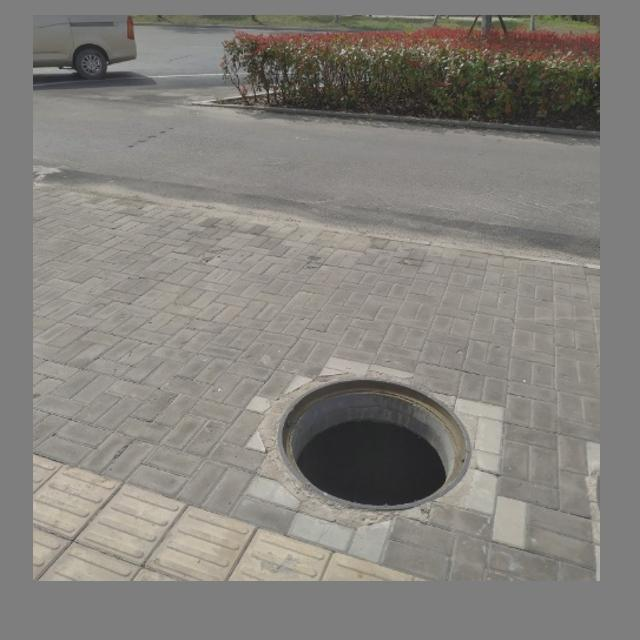lose: (275, 373, 473, 510)
